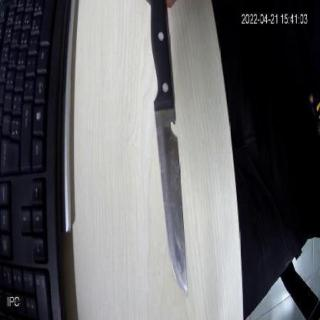knife: (127, 14, 205, 302)
